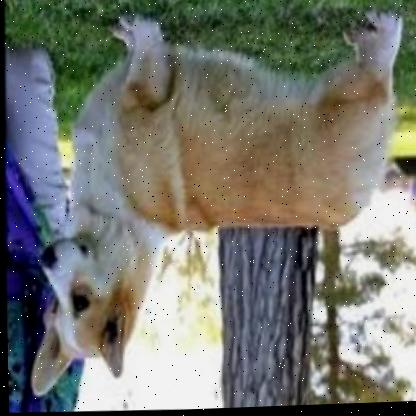dog: (21, 0, 412, 401)
